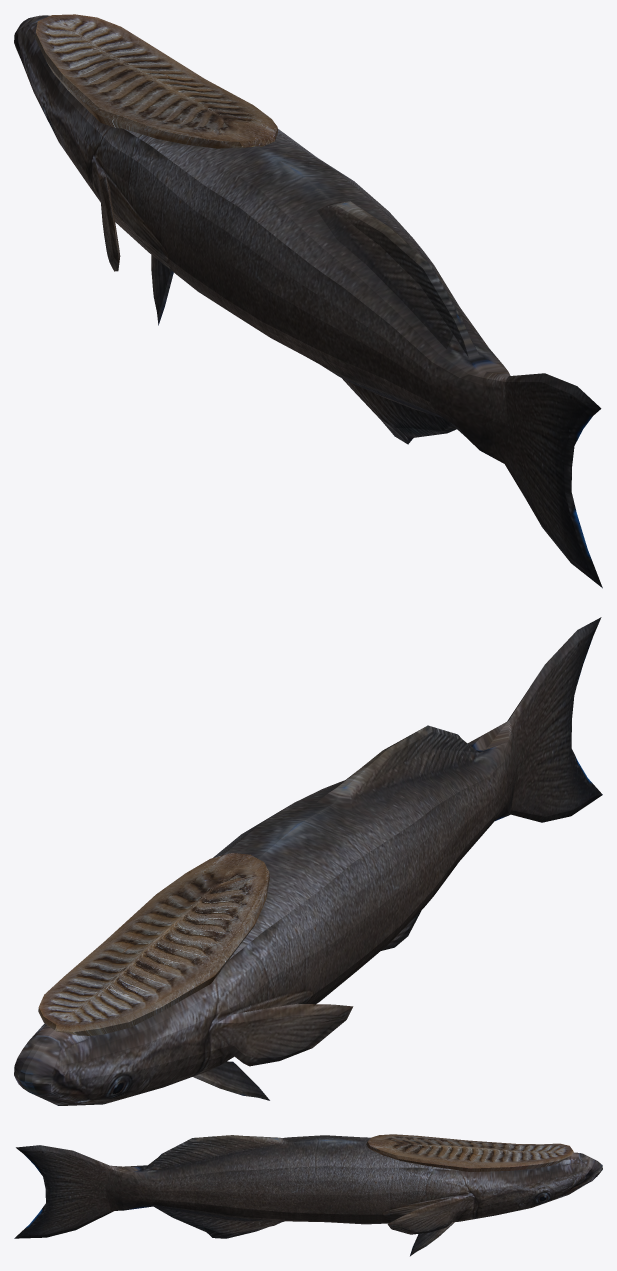
The model's file is remora-remora.glb.
3 renders of one model, top to bottom at view 1: azimuth 30°, elevation 25°; view 2: azimuth 150°, elevation 25°; view 3: azimuth 270°, elevation 25°, orthographic. The views are drawn at different scales.
Parts seen in each view (by area): view 1: remora_remora, pectoral.l, pelvic.l; view 2: remora_remora, pectoral.l, pelvic.l; view 3: remora_remora, pectoral.r, pelvic.r.
Boxes of the visible parts, box(x1,y1,x2,y2) form: remora_remora: box(14, 14, 602, 588); pectoral.l: box(96, 163, 120, 271); pelvic.l: box(151, 255, 173, 325); remora_remora: box(14, 617, 602, 1105); pectoral.l: box(217, 1003, 353, 1066); pelvic.l: box(193, 1061, 269, 1100); remora_remora: box(14, 1134, 602, 1238); pectoral.r: box(387, 1196, 468, 1234); pelvic.r: box(410, 1222, 454, 1256).
Size of the model in its own units: 0.2013 by 0.1737 by 0.8604.
Materials: 2 (2 with a texture image).
